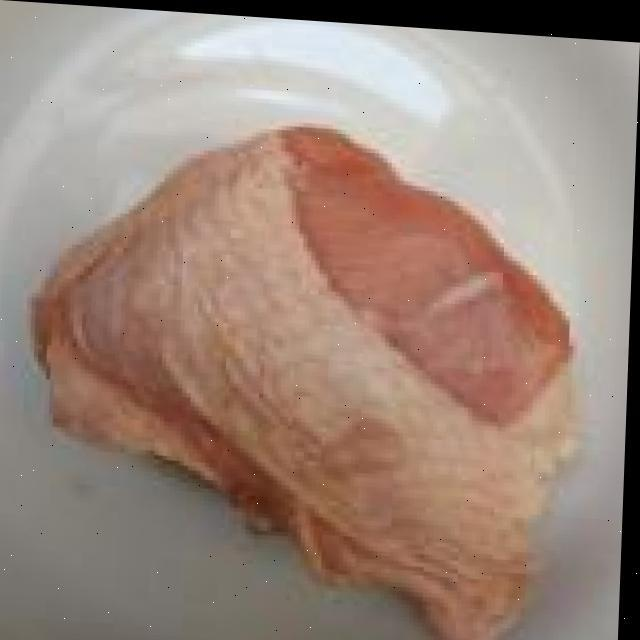breast: (66, 102, 566, 620)
